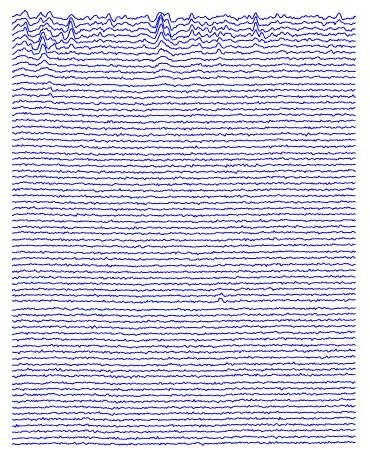defect: (187, 13, 228, 57), (23, 8, 51, 62), (157, 5, 173, 58), (248, 7, 268, 40), (66, 13, 79, 48), (105, 13, 114, 31)
